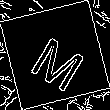M_NE: (22, 22, 88, 88)
